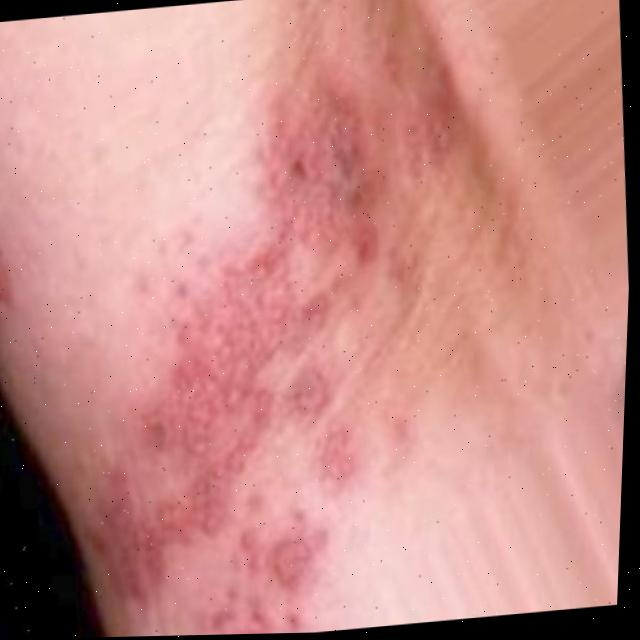Shingles: (81, 98, 392, 638), (0, 241, 12, 317)
